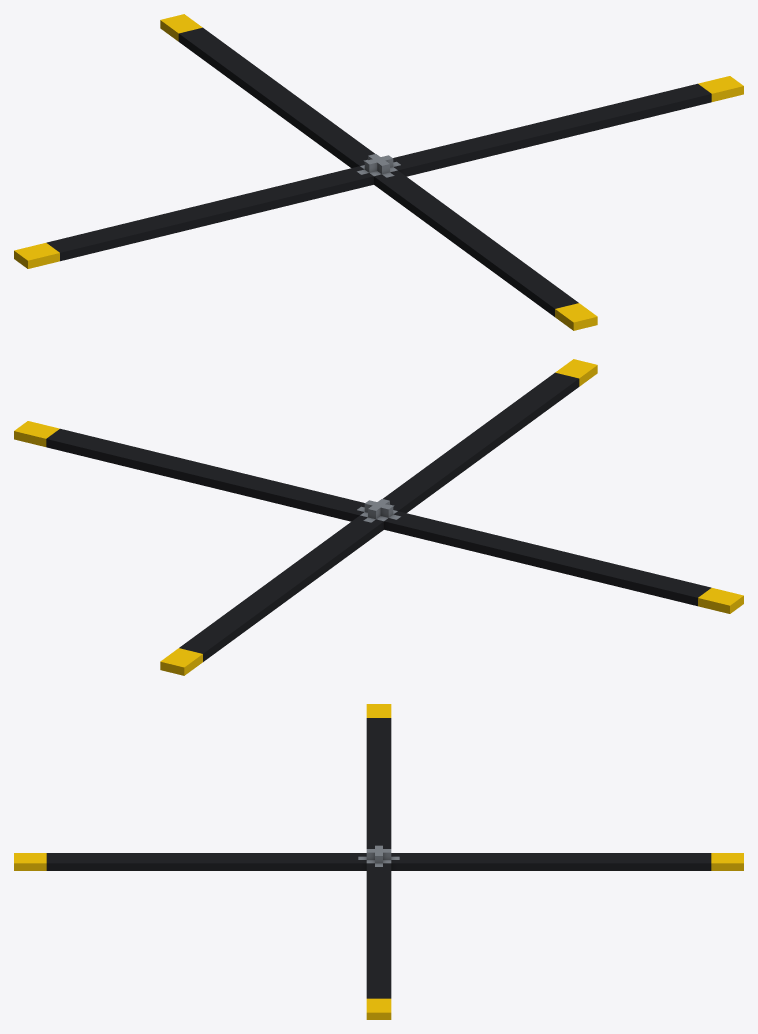
The model's file is rotor.glb.
3 renders of one model, top to bottom at view 1: azimuth 30°, elevation 25°; view 2: azimuth 150°, elevation 25°; view 3: azimuth 270°, elevation 25°, orthographic. The views are drawn at different scales.
Visible parts, largest first — view 1: rotor_body; view 2: rotor_body; view 3: rotor_body.
Boxes of the visible parts, x1,y1,x2,y2 form: rotor_body: (14, 14, 743, 330); rotor_body: (14, 359, 743, 675); rotor_body: (14, 704, 743, 1019).
Size of the model in its own units: 11.12 by 0.25 by 11.12.
1 material, 1 textured.
